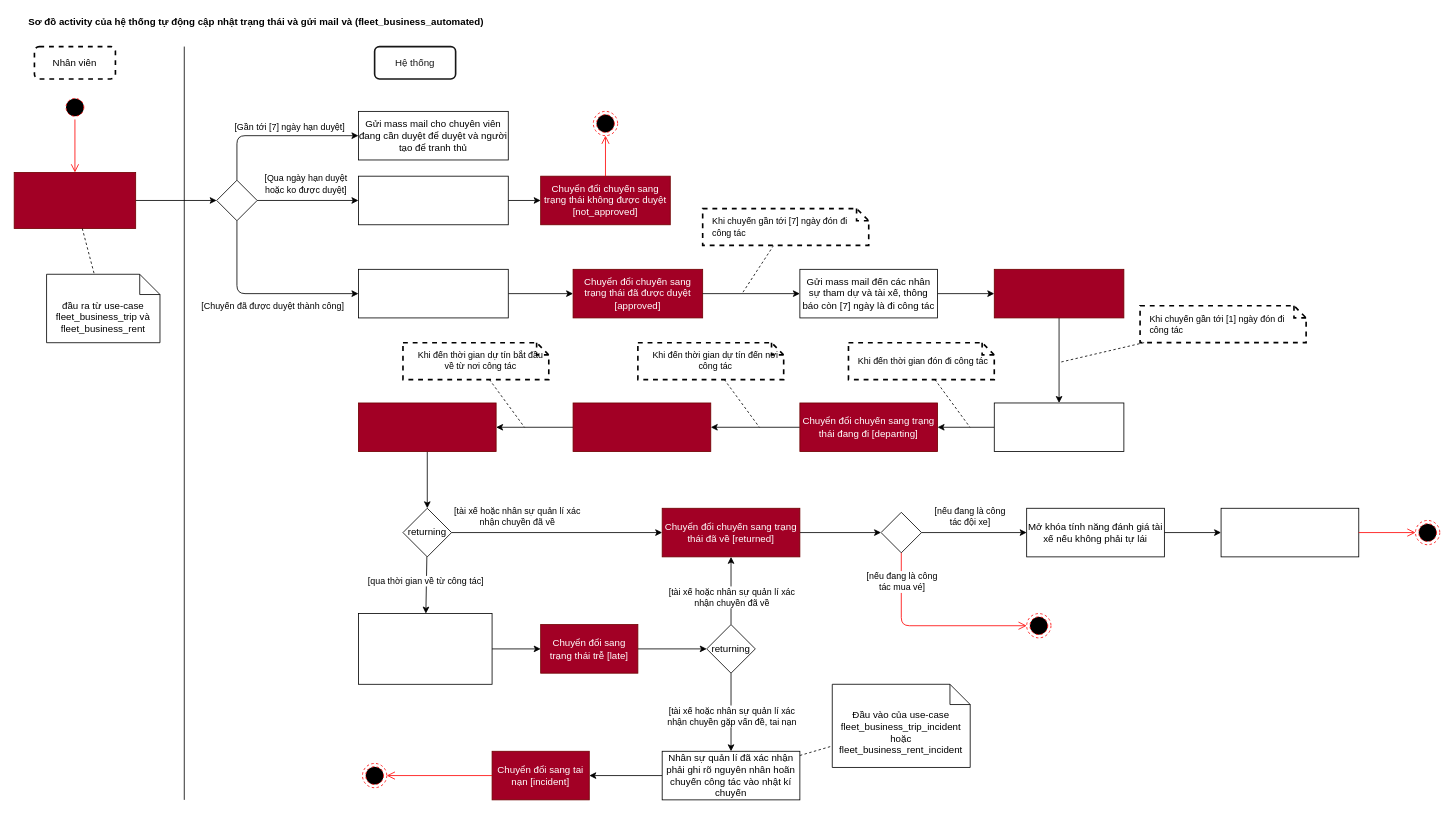
The diagram is 1454 pixels wide and 815 high, and some of its shapes have lost their labels. Here are the shapes that lost their labels. From the top down, the centre of each, then its label:
[74,200]: Tạo thành công record công tác trên database, trạng thái chưa duyệt [draft]
[236,200]: draft
[433,200]: Gửi mass mail cho người tạo chuyến là chuyến không được duyệt, và có thể hỏi lại
[433,293]: Gửi mass mail đến các nhân sự tham dự và tài xế, thông báo để chuẩn bị
[1058,293]: Chuyển đổi chuyến sang trạng thái đã chuẩn bị [ready]
[427,427]: Chuyển đổi chuyến sang trạng thái đang đi [returning]
[641,427]: Chuyển đổi chuyến sang trạng thái đang đi [arrived]
[1058,427]: Gửi mass mail đến các nhân sự tham dự và tài xế, thông báo [mai] đi công tác
[1289,532]: Gửi mass mail đến các nhân sự tham dự yêu cầu đánh giá tài xế chuyến công tác
[425,648]: Gửi mass mail đến các nhân sự quản li để thăm dò tình trạng của công tác
